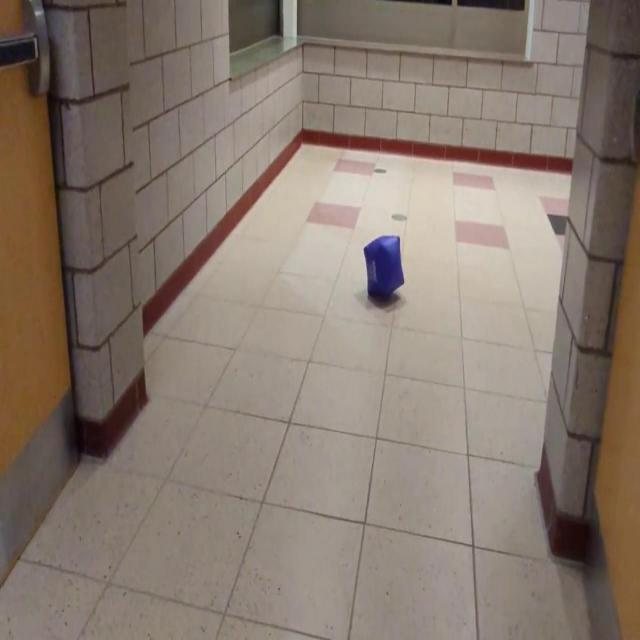frc_cube: (365, 234, 405, 297)
